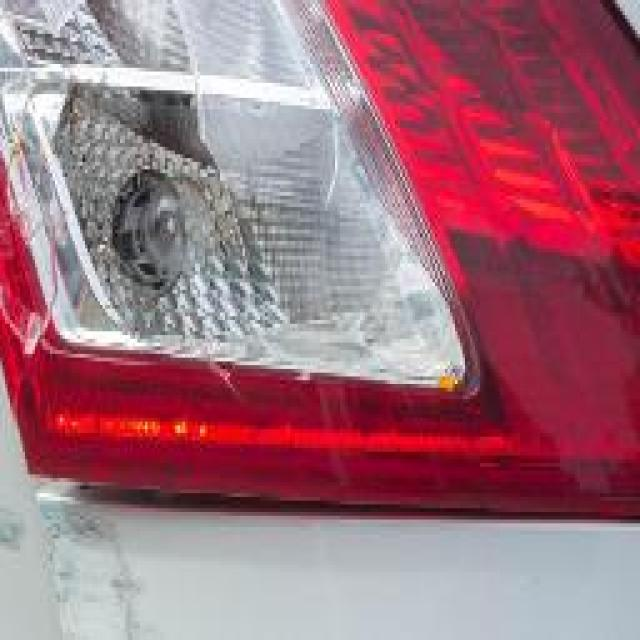Light: (2, 8, 640, 516)
